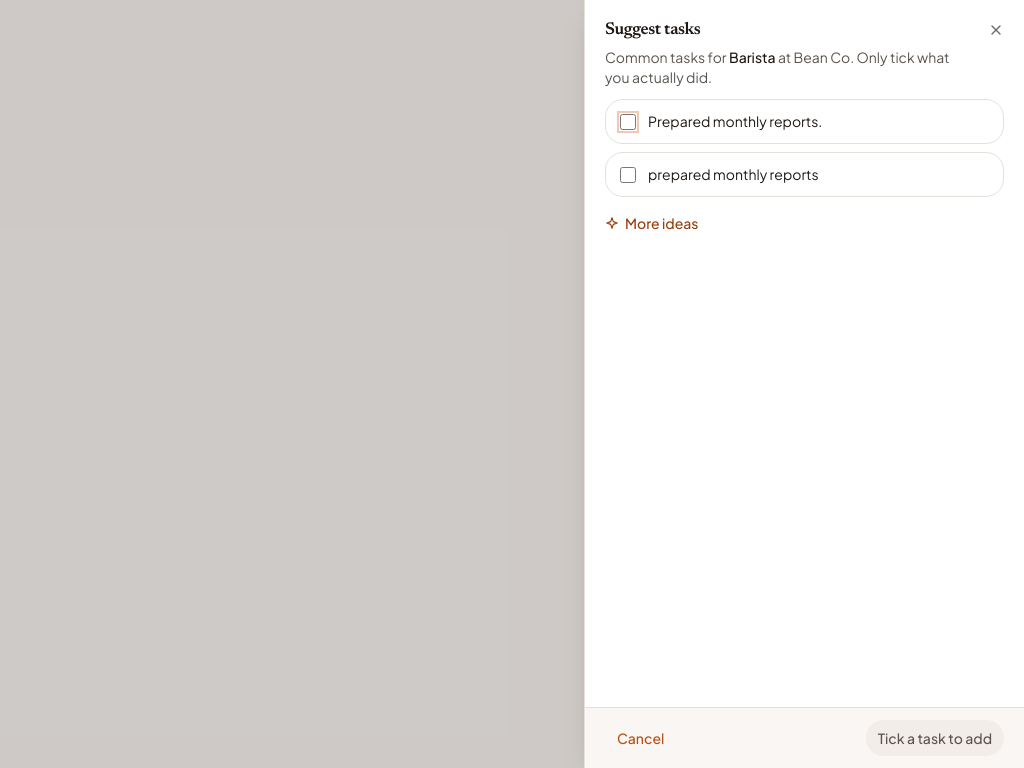
Test case: SuggestTasksPanel › counts only what actually lands - two ideas worded alike become one bullet
Click the checkbox labelled "Prepared monthly reports." at (628, 122), box [620,114,636,130]
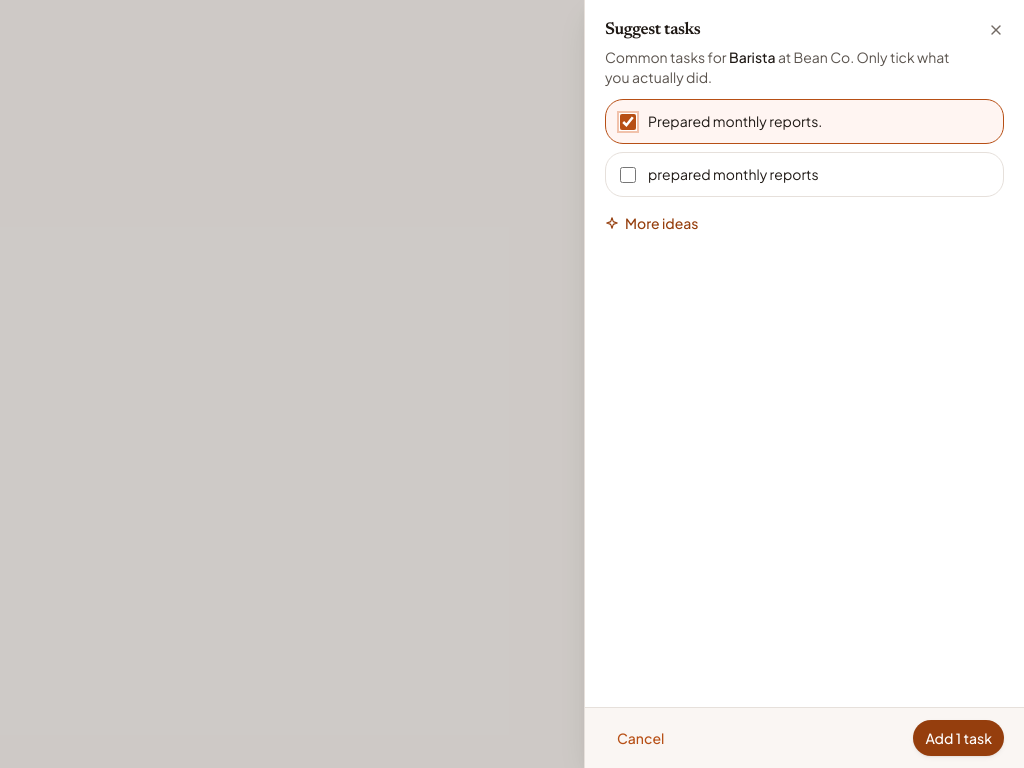
Click the checkbox labelled "prepared monthly reports" at (628, 175), box [620,167,636,183]
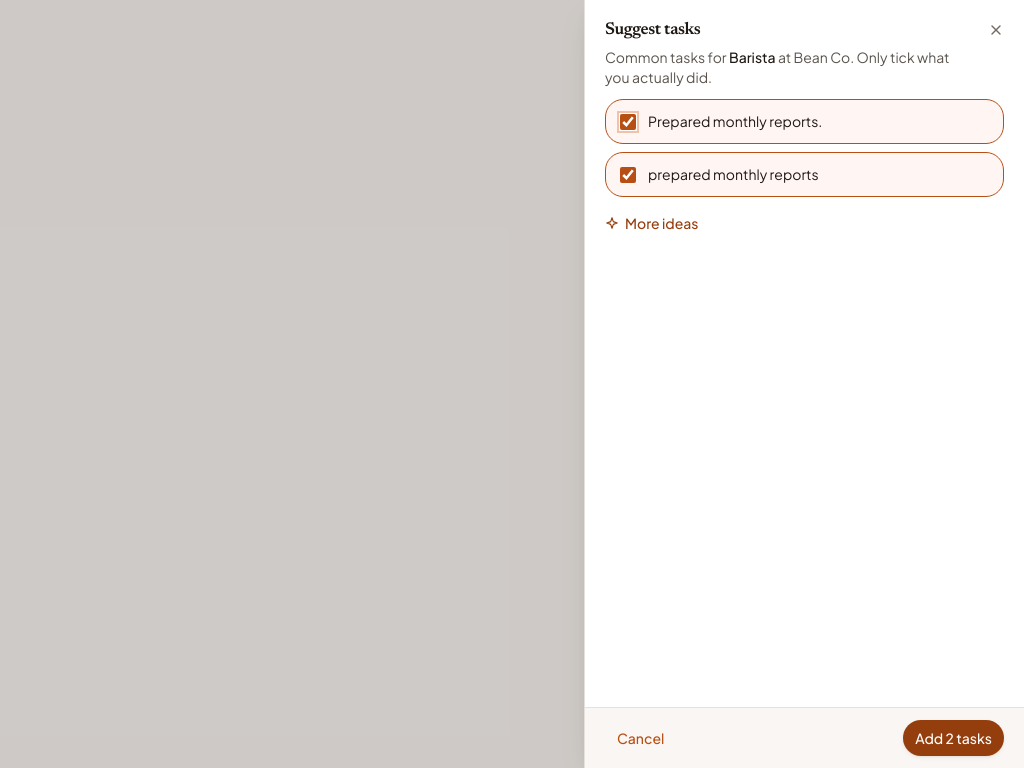
Click the button "Add 2 tasks" at (954, 738), box [903,720,1004,756]
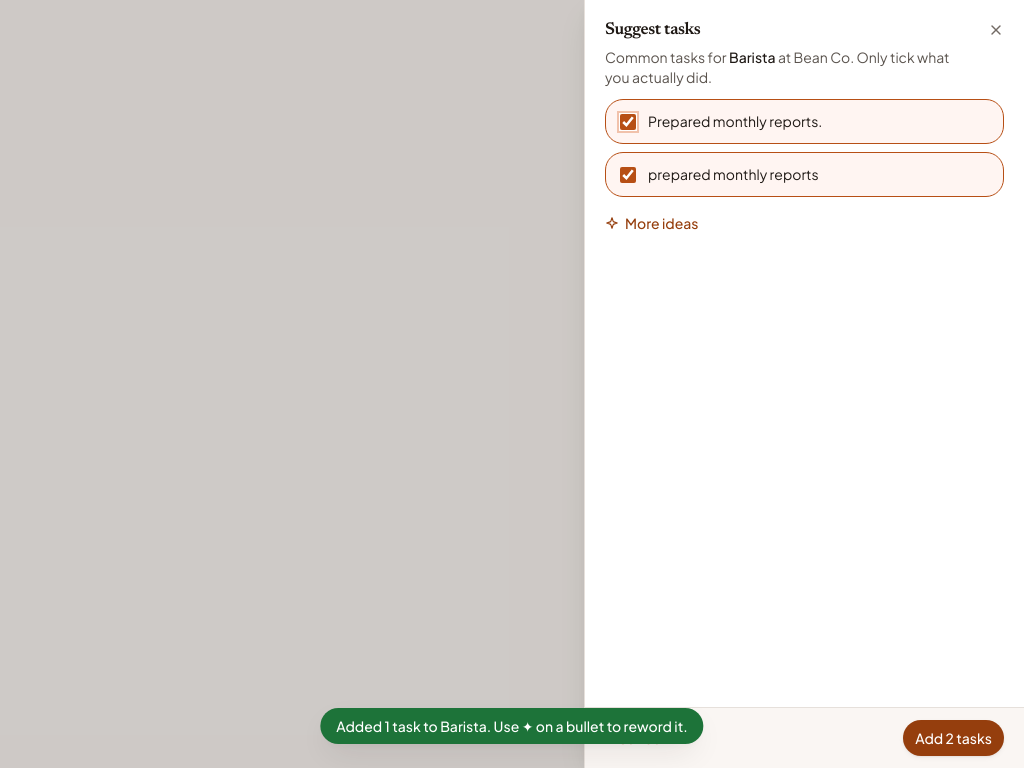
Result: the text "Added 1 task to Barista. Use ✦ on a bullet to reword it." is shown at [320,708,704,744]
